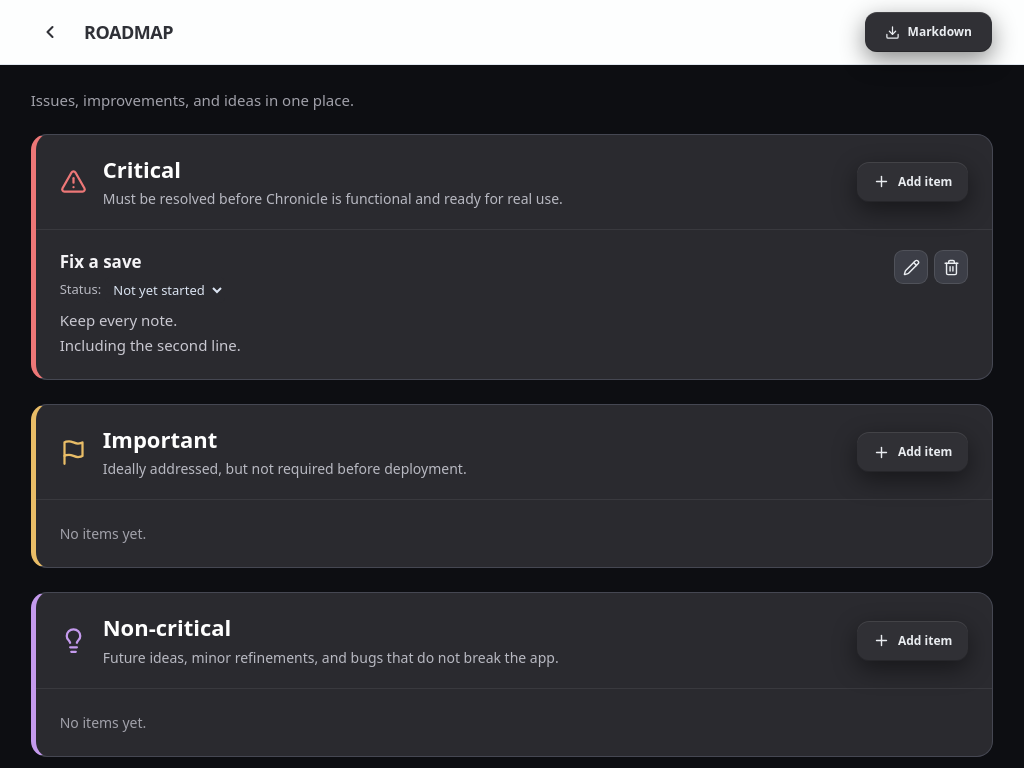
Test: Chronicle Roadmap › blocks stale writes, retains the draft, and automatically reads the latest list when the editor closes
Check: the heading "Critical" is shown, box x1=103 y1=154 x2=181 y2=184
Click the button named "Edit Fix a save" at (911, 267), box x1=894 y1=250 x2=928 y2=284
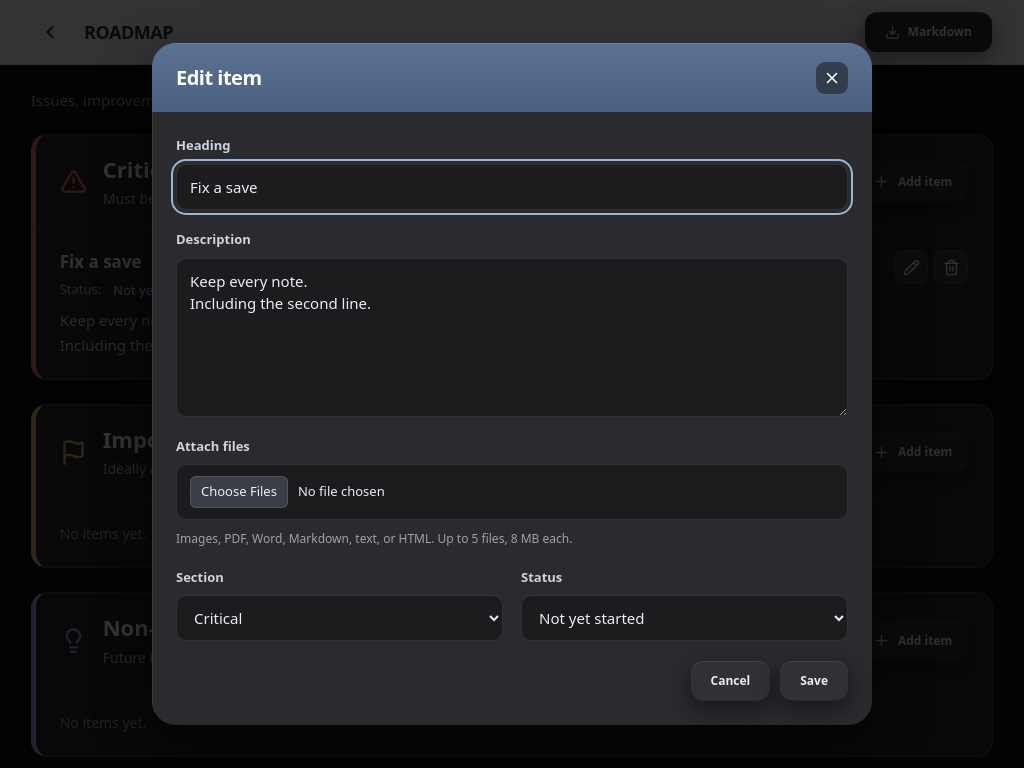
Replace the text in the field labelled "Heading" with "My unsaved change" at (512, 187), box x1=176 y1=164 x2=848 y2=210
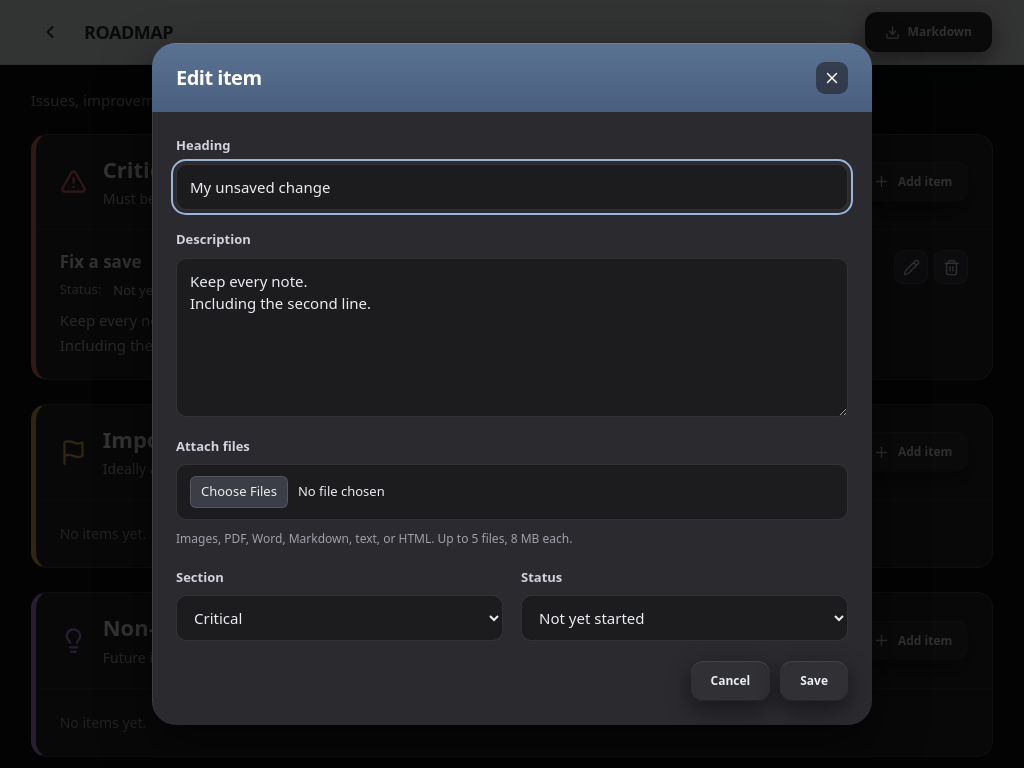
Click the button "Save" at (814, 681), box x1=780 y1=661 x2=848 y2=701
(page scrolled)
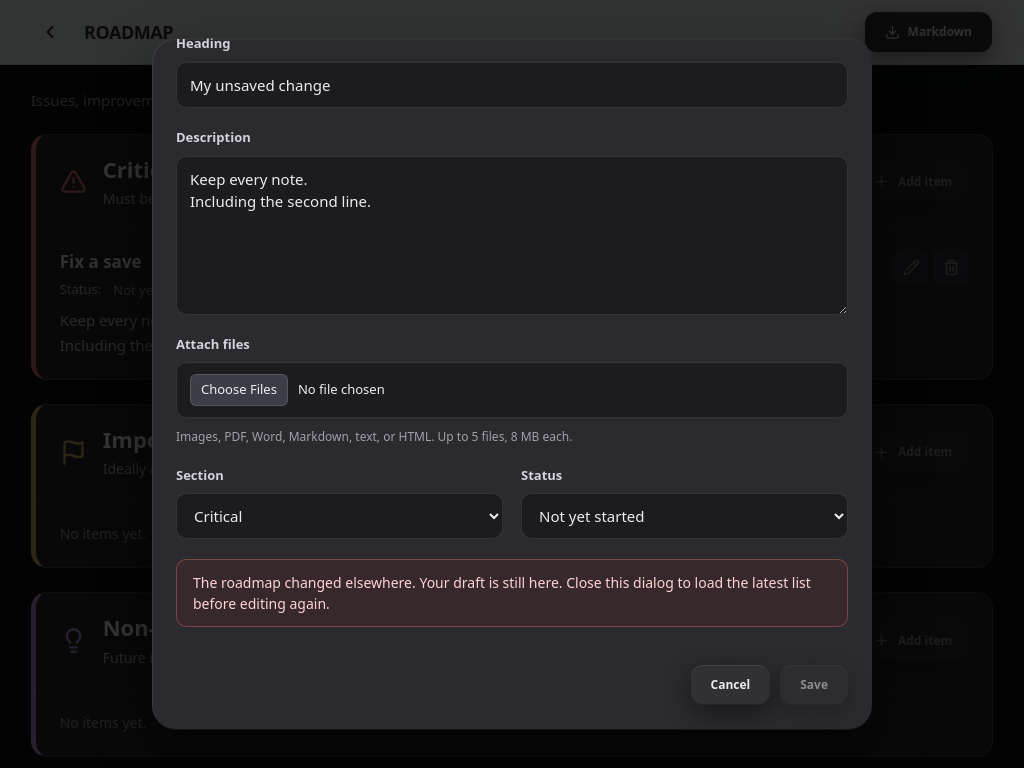
Check: the message is shown, box x1=176 y1=559 x2=848 y2=627
Check: the button "Save" is disabled, box x1=780 y1=665 x2=848 y2=705
Click the button "Cancel" at (730, 685), box x1=690 y1=665 x2=770 y2=705
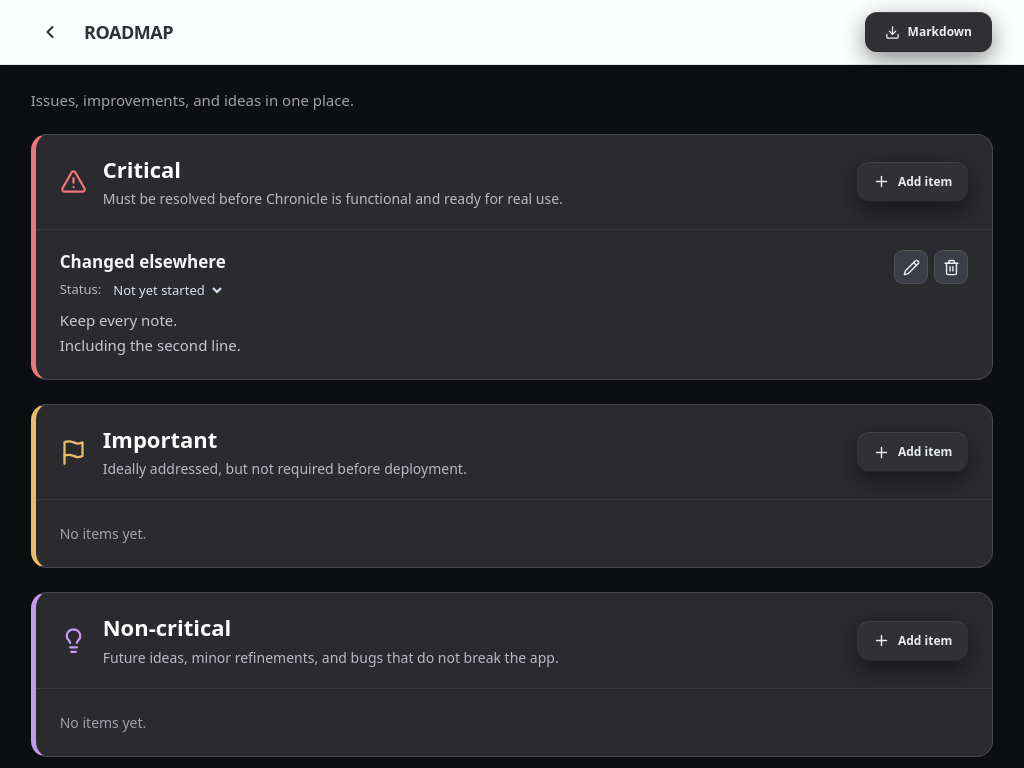
Check: the heading "Changed elsewhere" is shown, box x1=60 y1=250 x2=226 y2=273
Check: the button named "Edit Changed elsewhere" is enabled, box x1=894 y1=250 x2=928 y2=284
